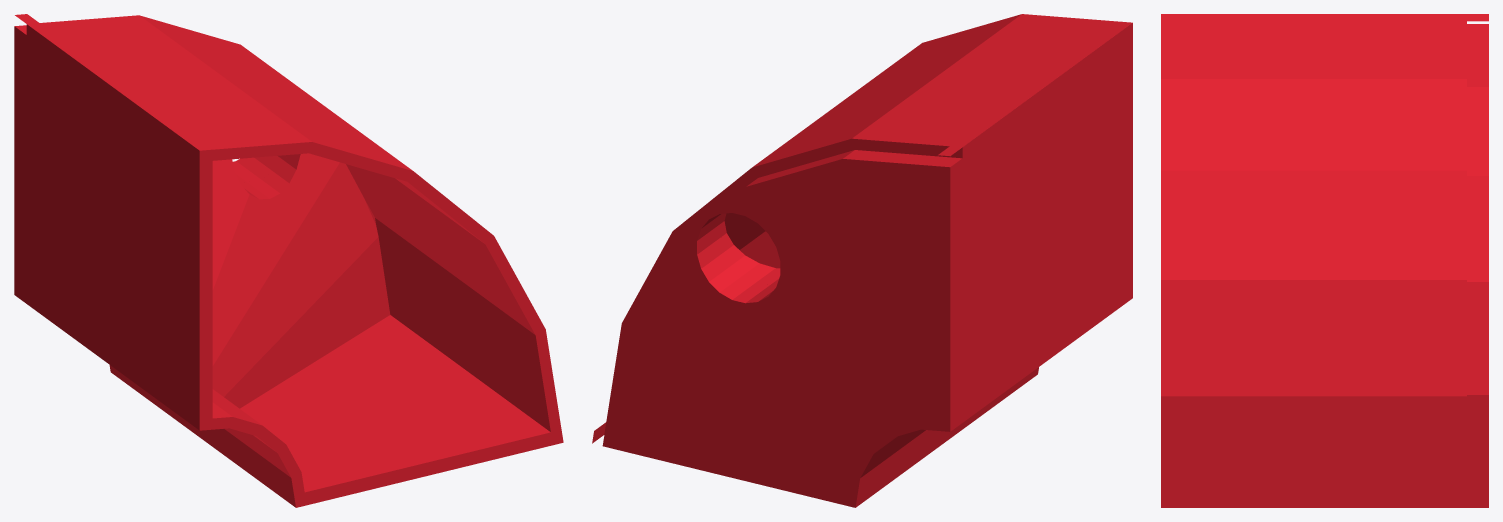
Rendered from tinker.obj.
The picture shows the model from 3 angles, left to right: view 1: azimuth 30°, elevation 25°; view 2: azimuth 150°, elevation 25°; view 3: azimuth 270°, elevation 25°; orthographic projection. The views are drawn at different scales.
Visible parts, largest first — view 1: obj_0; view 2: obj_0; view 3: obj_0.
Part boxes in pixels (bbox=[...]): obj_0: bbox=[14, 14, 563, 507]; obj_0: bbox=[592, 14, 1132, 507]; obj_0: bbox=[1161, 14, 1488, 507].
Size of the model in its own units: 85.02 by 85.02 by 75.
